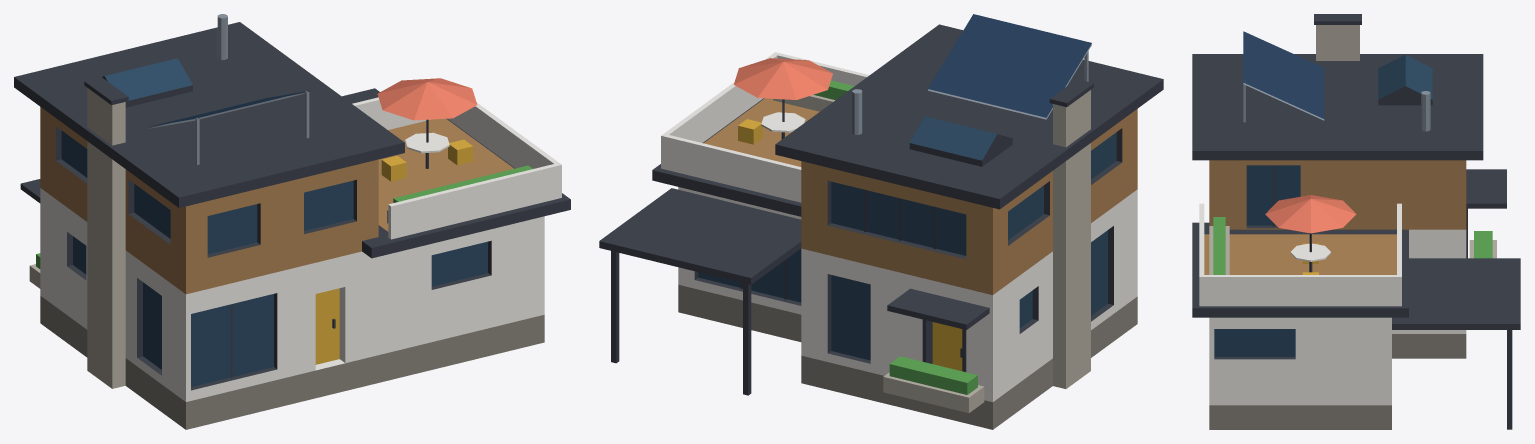
The model's file is house_d.glb.
3 views of the same model, side by side, from view 1: azimuth 30°, elevation 25°; view 2: azimuth 150°, elevation 25°; view 3: azimuth 270°, elevation 25° (orthographic). The views are drawn at different scales.
Parts seen in each view (by area): view 1: Building, Building_Glass, Building_Detail; view 2: Building, Building_Detail, Building_Glass; view 3: Building, Building_Detail, Building_Glass.
Boxes of the visible parts, bbox=[...] form: Building: bbox=[14, 14, 570, 429]; Building_Glass: bbox=[61, 58, 487, 386]; Building_Detail: bbox=[36, 78, 532, 328]; Building: bbox=[599, 24, 1163, 429]; Building_Detail: bbox=[734, 14, 1091, 394]; Building_Glass: bbox=[698, 116, 1116, 360]; Building: bbox=[1192, 14, 1520, 429]; Building_Detail: bbox=[1213, 31, 1492, 274]; Building_Glass: bbox=[1214, 54, 1432, 356].
Bounding box in the file's own units: 11.8 × 8.35 × 9.7.
